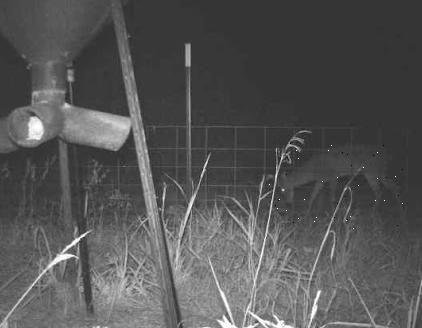Deer: (268, 134, 411, 229)
